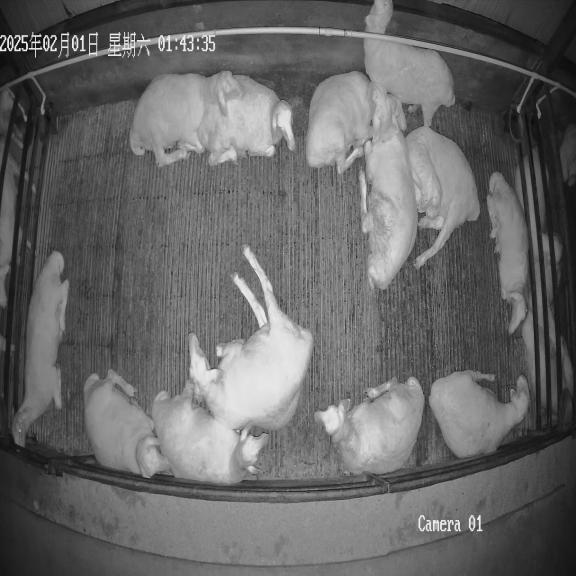lying: (189, 246, 313, 431), (152, 381, 268, 484), (360, 82, 417, 290), (11, 251, 69, 446), (129, 71, 243, 167), (405, 126, 480, 269), (315, 378, 424, 475), (84, 370, 170, 478), (429, 370, 529, 458), (199, 74, 295, 165), (306, 71, 377, 173), (487, 172, 528, 334), (384, 93, 407, 132)
stand: (363, 38, 455, 126), (365, 0, 393, 35)
